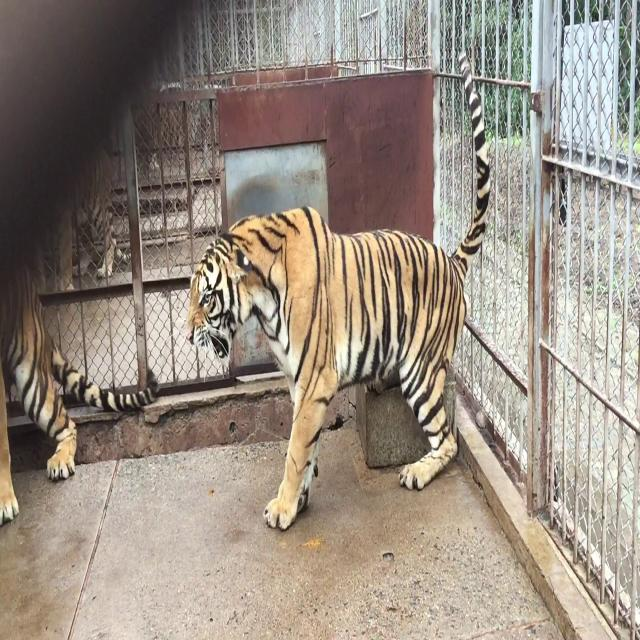Tiger: (133, 9, 513, 563), (0, 213, 160, 543), (52, 144, 129, 280), (143, 90, 201, 174)
